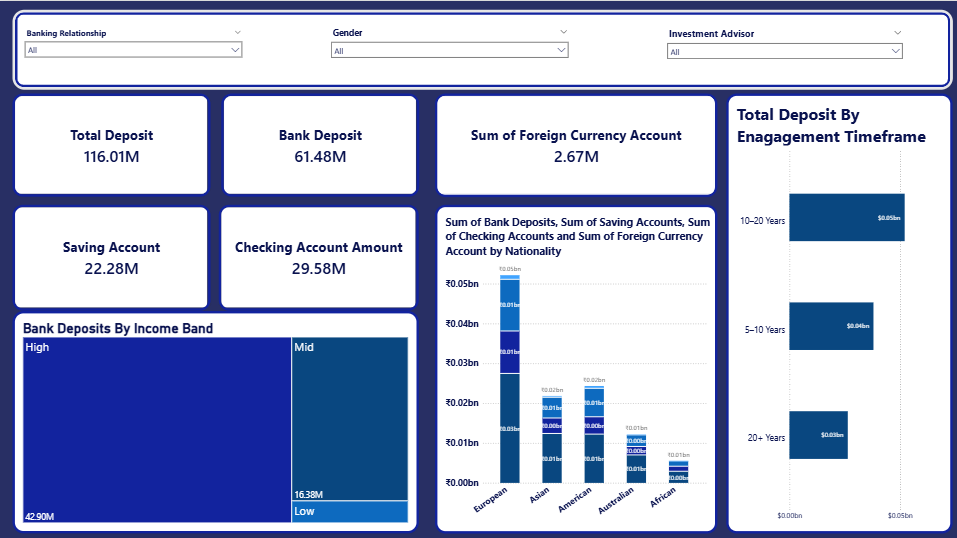

Layout of this report page (visuals, bound fields, positions):
{"tool":"powerbi","page":{"name":"DEPOSIT ANALYSIS","canvas":[1920,1080],"ordinal":2},"visuals":[{"type":"shape","box":[25.8,18.4,1881,160.1],"z":0},{"type":"cardVisual","fields":{"Data":["Banking_Data.Total Deposit"]},"box":[25.8,185.9,395.7,206.1],"z":1000},{"type":"cardVisual","fields":{"Data":["Sum(Banking_Data.Bank Deposits)"]},"box":[441.7,185.9,395.7,206.1],"z":2000},{"type":"cardVisual","fields":{"Data":["Sum(Banking_Data.Foreign Currency Account)"]},"box":[870.6,185.9,564.4,207],"z":3000},{"type":"cardVisual","fields":{"Data":["Sum(Banking_Data.Saving Accounts)"]},"box":[25.8,406.8,395.7,211.7],"z":4000},{"type":"cardVisual","fields":{"Data":["Sum(Banking_Data.Checking Accounts)"]},"box":[438,406.8,399.8,211.7],"z":5000},{"type":"treemap","title":" Bank Deposits By Income Band","fields":{"Group":["Banking_Data.Income Band"],"Values":["Banking_Data.Total Bank Deposits"]},"box":[25,620,812.5,445],"z":6000},{"type":"clusteredBarChart","title":"Total Deposit By Enagagement Timeframe","fields":{"Category":["Banking_Data.Engagement Timeframe"],"Y":["Banking_Data.Total Deposit"]},"box":[1452.5,185,452.5,880],"z":7000},{"type":"columnChart","fields":{"Category":["Banking_Data.Nationality"],"Y":["Sum(Banking_Data.Bank Deposits)","Sum(Banking_Data.Saving Accounts)","Sum(Banking_Data.Checking Accounts)","Sum(Banking_Data.Foreign Currency Account)"]},"box":[870,407.5,565,657.5],"z":8000},{"type":"slicer","fields":{"Values":["Banking_Data.Gender"]},"box":[657.1,51.5,484.1,92],"z":9000},{"type":"slicer","fields":{"Values":["Banking_Data.Banking Relationship"]},"box":[44.7,51.7,444.5,91.7],"z":10000},{"type":"slicer","fields":{"Values":["Banking_Data.Investment Advisor"]},"box":[1328.8,51.5,480.4,92],"z":11000}]}

Visuals, with their boxes in screenshot pixels (x1, y1, x2, y2), scaled from the page's 1920x1080 canvas onto the 957x538 screenshot:
shape: select_region(13, 9, 950, 89)
cardVisual - Banking_Data.Total Deposit: select_region(13, 93, 210, 195)
cardVisual - Sum(Banking_Data.Bank Deposits): select_region(220, 93, 417, 195)
cardVisual - Sum(Banking_Data.Foreign Currency Account): select_region(434, 93, 715, 196)
cardVisual - Sum(Banking_Data.Saving Accounts): select_region(13, 203, 210, 308)
cardVisual - Sum(Banking_Data.Checking Accounts): select_region(218, 203, 418, 308)
" Bank Deposits By Income Band" treemap: select_region(12, 309, 417, 531)
"Total Deposit By Enagagement Timeframe" clusteredBarChart: select_region(724, 92, 950, 531)
columnChart - Banking_Data.Nationality x Sum(Banking_Data.Bank Deposits): select_region(434, 203, 715, 531)
slicer - Banking_Data.Gender: select_region(328, 26, 569, 71)
slicer - Banking_Data.Banking Relationship: select_region(22, 26, 244, 71)
slicer - Banking_Data.Investment Advisor: select_region(662, 26, 902, 71)
